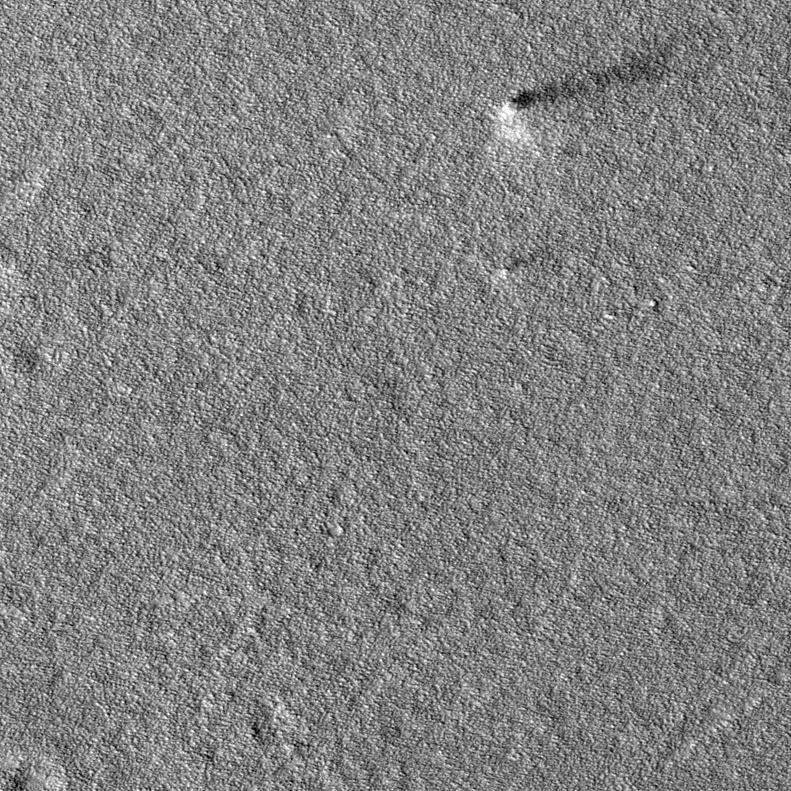dust_devil: (498, 36, 676, 145), (496, 242, 553, 282)
